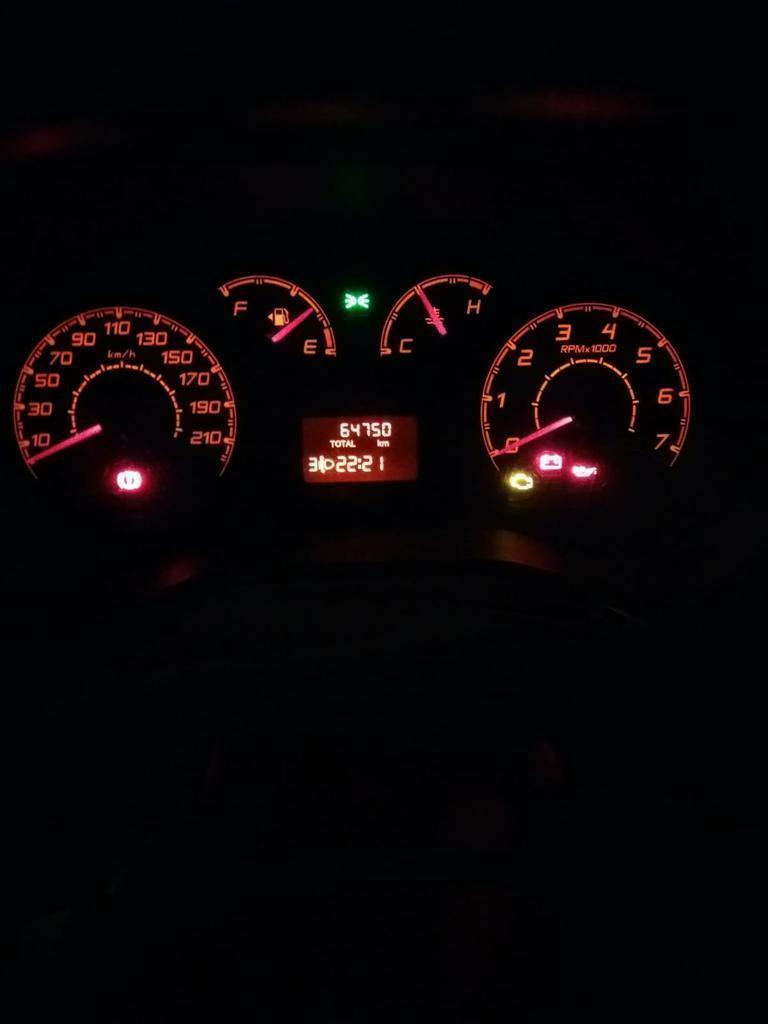0: (381, 421, 392, 437)
1: (378, 455, 385, 472)
2: (361, 454, 372, 472), (335, 455, 346, 472), (347, 454, 357, 472)
3: (307, 456, 317, 472)
4: (350, 423, 360, 437)
5: (371, 422, 381, 437)
6: (339, 422, 349, 438)
7: (361, 422, 370, 437)
X: (334, 439, 341, 448), (381, 440, 390, 447), (340, 439, 346, 448), (328, 439, 334, 448), (357, 457, 361, 469), (350, 439, 356, 447), (376, 438, 381, 447), (345, 439, 350, 447)
odometer: (300, 413, 420, 485)
